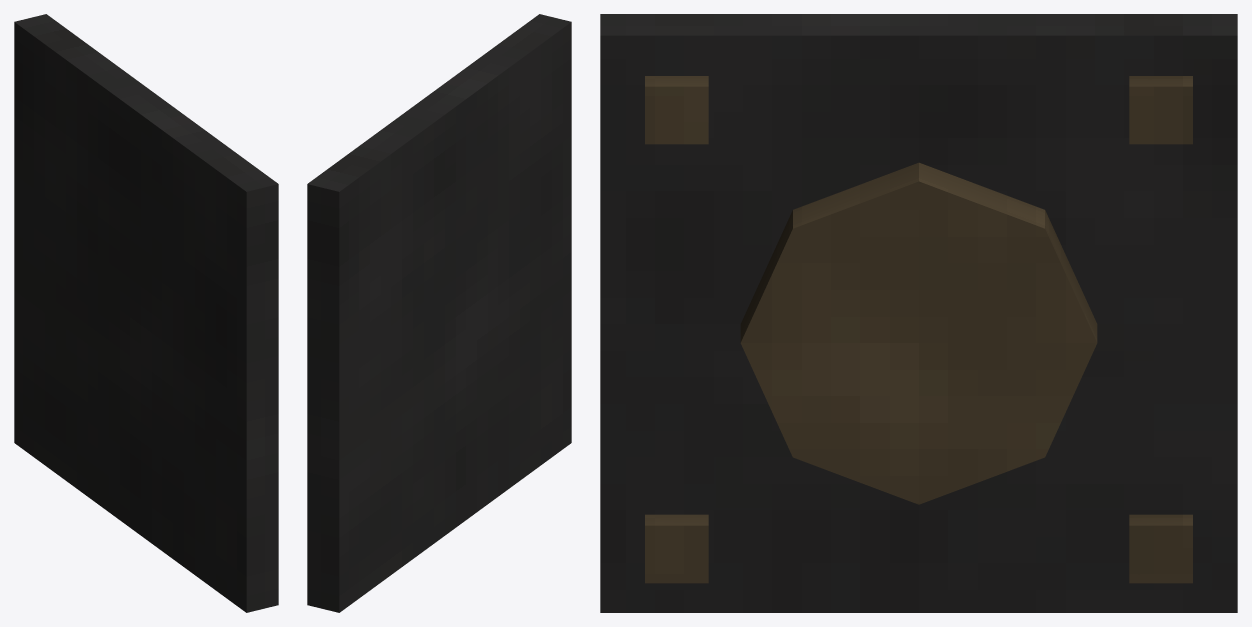
The model's file is marble_plate.glb.
The picture shows the model from 3 angles, left to right: view 1: azimuth 30°, elevation 25°; view 2: azimuth 150°, elevation 25°; view 3: azimuth 270°, elevation 25°; orthographic projection. The views are drawn at different scales.
Visible parts, largest first — view 1: MarblePlate; view 2: MarblePlate; view 3: MarblePlate.
Boxes of the visible parts, left/top/right/bottom form: MarblePlate: left=14, top=14, right=278, bottom=612; MarblePlate: left=307, top=14, right=571, bottom=612; MarblePlate: left=600, top=14, right=1237, bottom=612.
Bounding box in the file's own units: 0.15 × 1 × 1.
2 materials, 2 textured.
